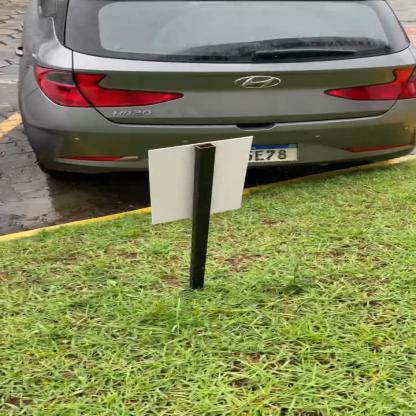Plate: (254, 136, 305, 166)
